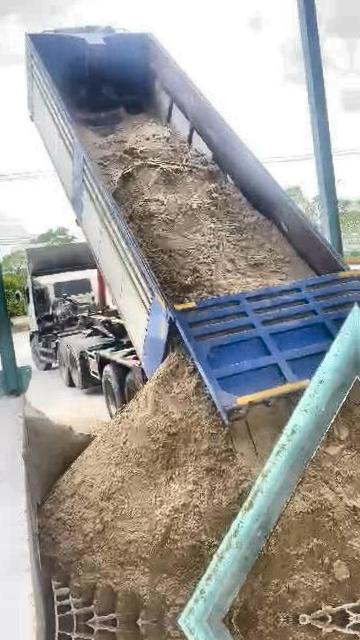sand: (41, 355, 292, 621), (83, 114, 313, 302), (235, 383, 360, 620)
